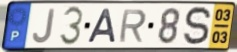3: (58, 5, 85, 48)
8: (157, 7, 181, 46)
A: (86, 8, 118, 45)
J: (31, 7, 57, 45)
R: (117, 9, 149, 44)
S: (182, 5, 213, 47)
